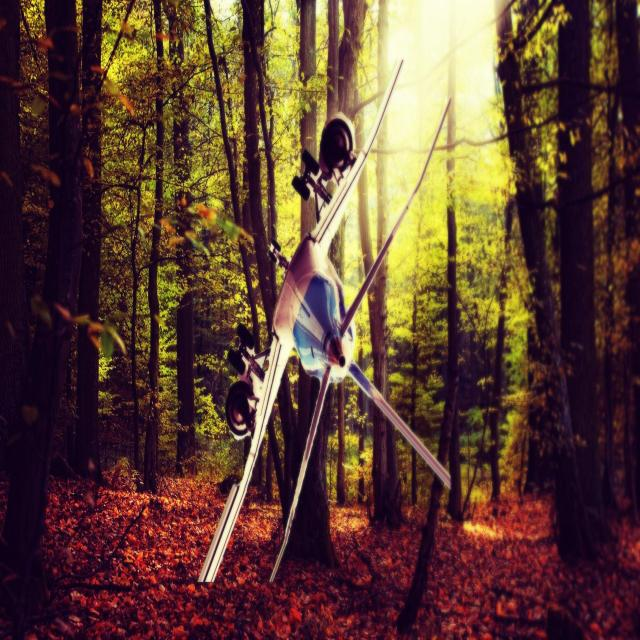airplane: (196, 57, 454, 585)
